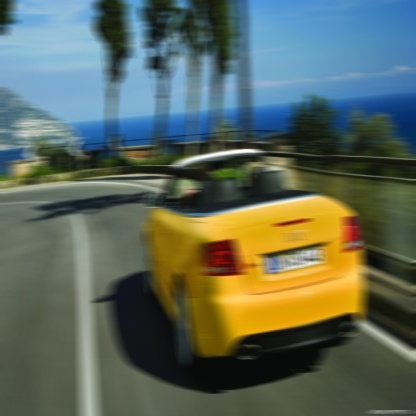Vehicle: (145, 145, 365, 369)
